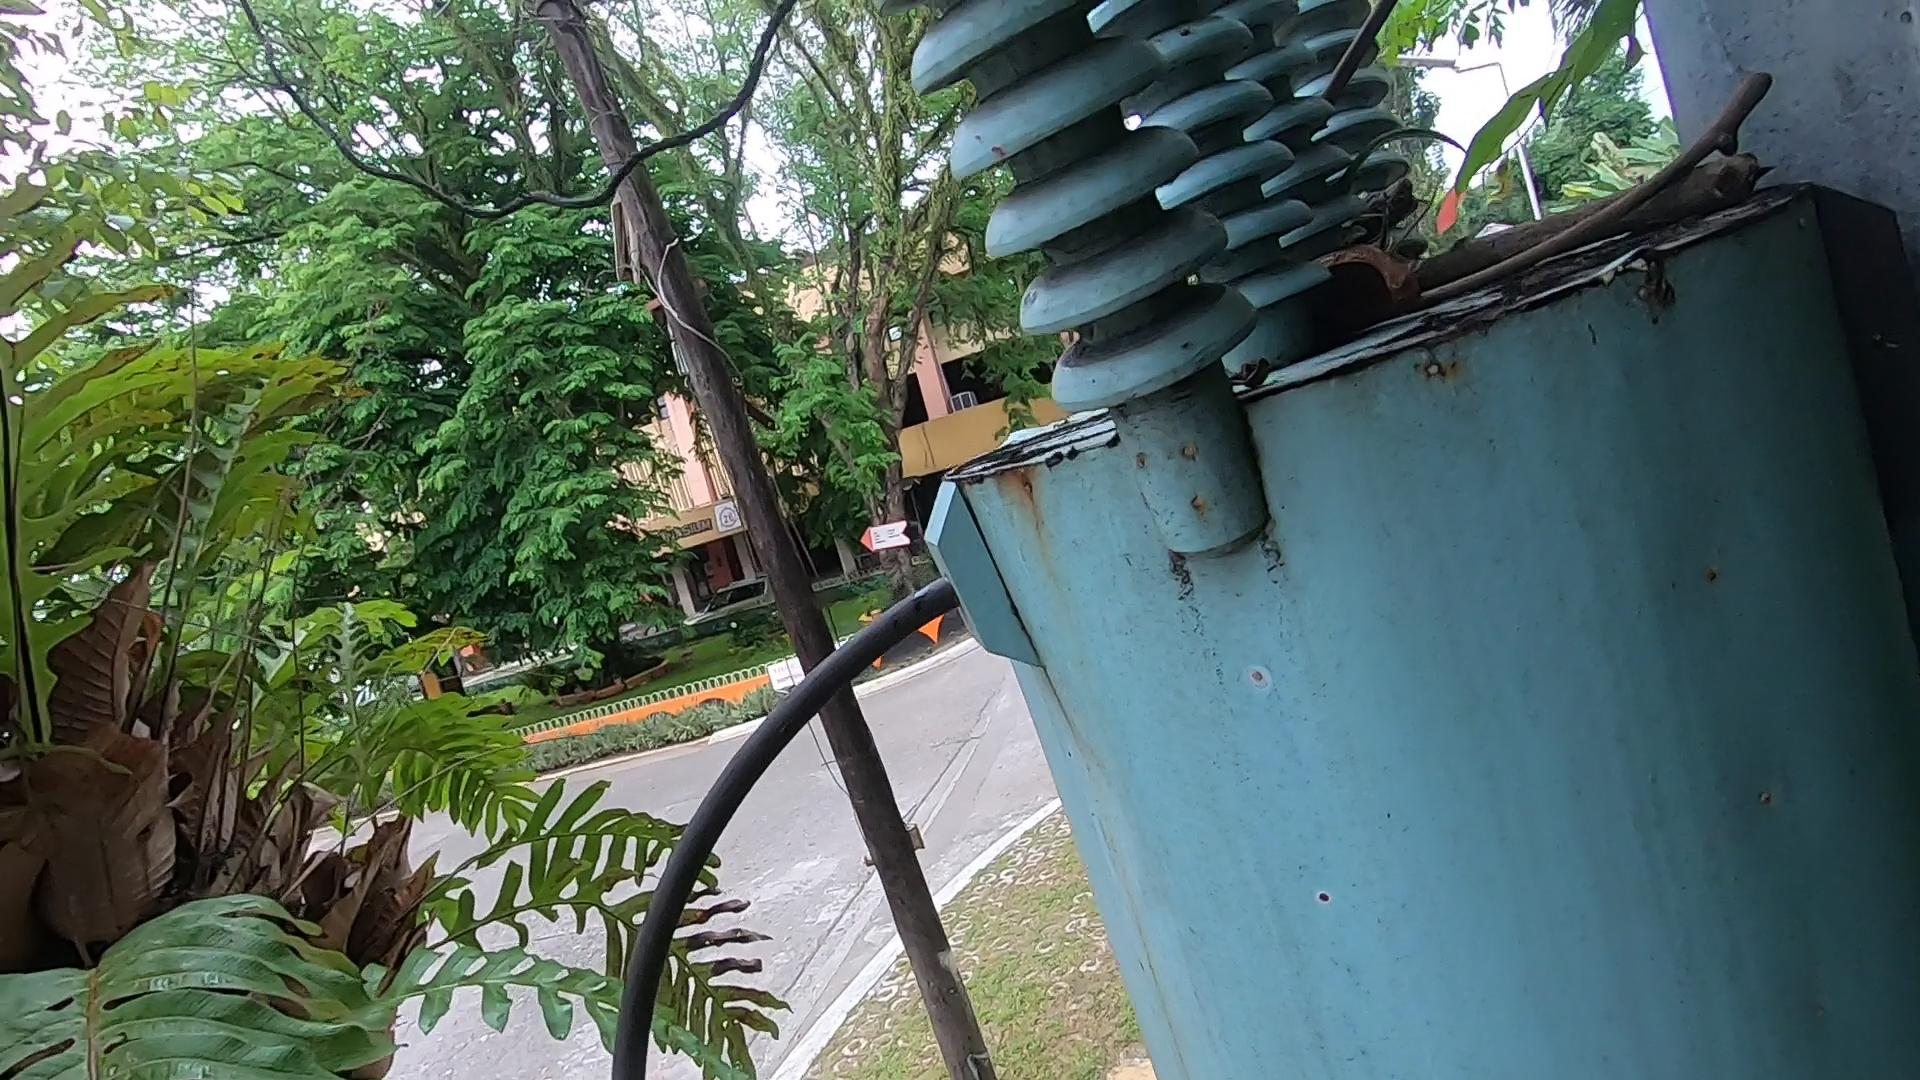mahogany fruit: (1312, 249, 1435, 309)
tree branch: (1416, 76, 1768, 316), (1399, 135, 1815, 224)
